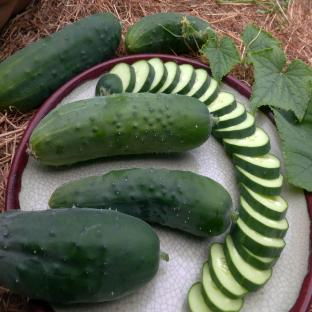Cucumber: (0, 209, 159, 303), (28, 93, 211, 165), (49, 168, 232, 236), (0, 13, 121, 111), (125, 13, 215, 54), (224, 234, 272, 291), (209, 243, 249, 299), (238, 195, 288, 238), (231, 218, 285, 257), (202, 262, 243, 311), (239, 183, 288, 220), (235, 165, 283, 196), (223, 127, 270, 156), (234, 240, 278, 270), (233, 154, 280, 179), (213, 112, 255, 138), (215, 102, 247, 129), (132, 60, 155, 92), (208, 91, 236, 117), (171, 65, 196, 94), (110, 63, 135, 92), (157, 62, 180, 93), (188, 282, 212, 311), (187, 69, 210, 98), (148, 58, 167, 92), (96, 74, 122, 96), (199, 79, 220, 105)
